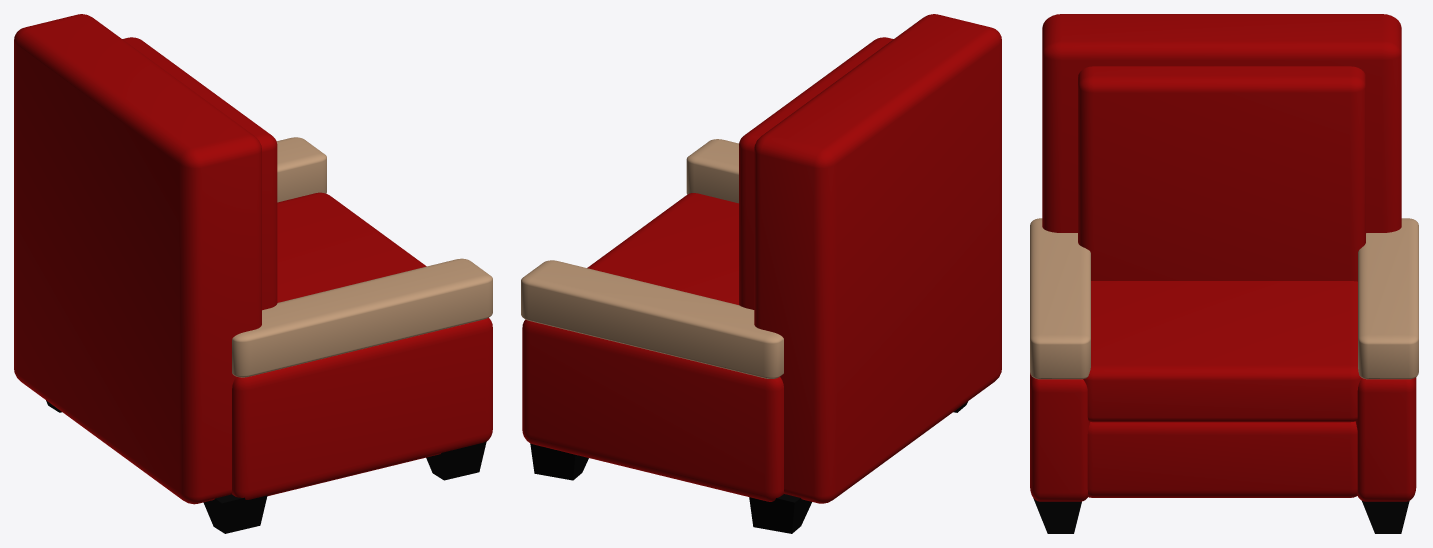
Rendered from ExportedFBXFile.fbx.
3 views of the same model, side by side, from view 1: azimuth 30°, elevation 25°; view 2: azimuth 150°, elevation 25°; view 3: azimuth 270°, elevation 25° (orthographic).
Visible parts, largest first — view 1: polySurface13; view 2: polySurface13; view 3: polySurface13.
Part boxes in pixels (x1,y1,x2,y2): polySurface13: (14, 14, 492, 533); polySurface13: (521, 14, 1001, 533); polySurface13: (1030, 14, 1418, 533).
Bounding box in the file's own units: 110 × 136 × 125.
